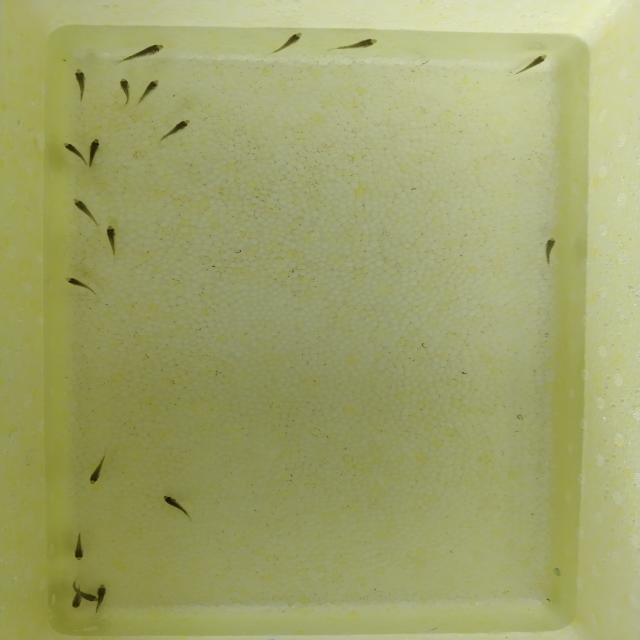fingerling: (508, 50, 553, 81), (84, 448, 116, 488), (116, 42, 168, 66), (161, 493, 196, 523), (267, 30, 305, 57), (325, 37, 383, 54), (70, 195, 99, 229), (158, 118, 194, 145), (62, 274, 101, 298), (137, 77, 164, 108), (101, 224, 124, 258), (72, 66, 90, 106), (70, 530, 89, 562), (115, 76, 132, 108), (540, 234, 556, 268), (62, 139, 82, 163), (86, 136, 105, 160), (69, 582, 83, 609), (83, 594, 100, 604), (96, 582, 109, 594)
